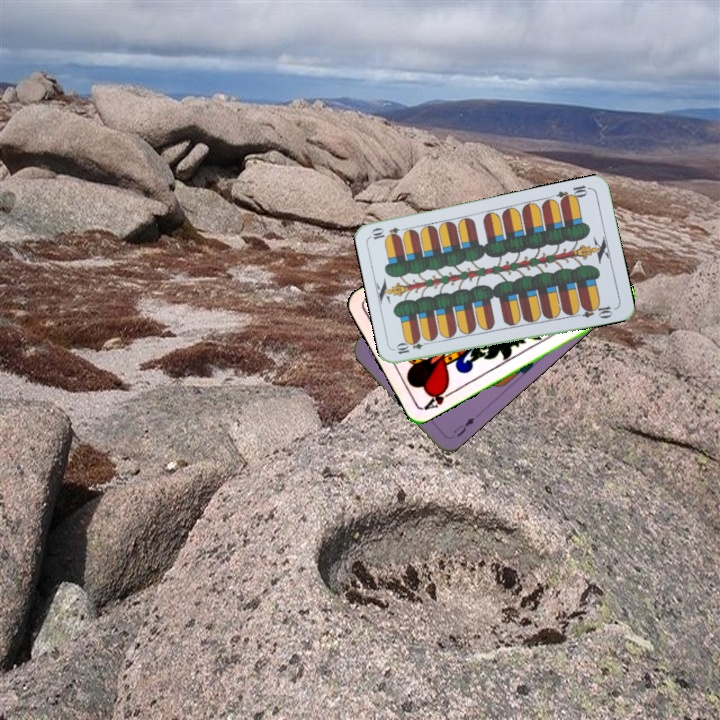E10: (553, 181, 593, 205), (392, 336, 433, 357)
EU: (449, 413, 477, 439)
HA: (420, 382, 457, 413)
